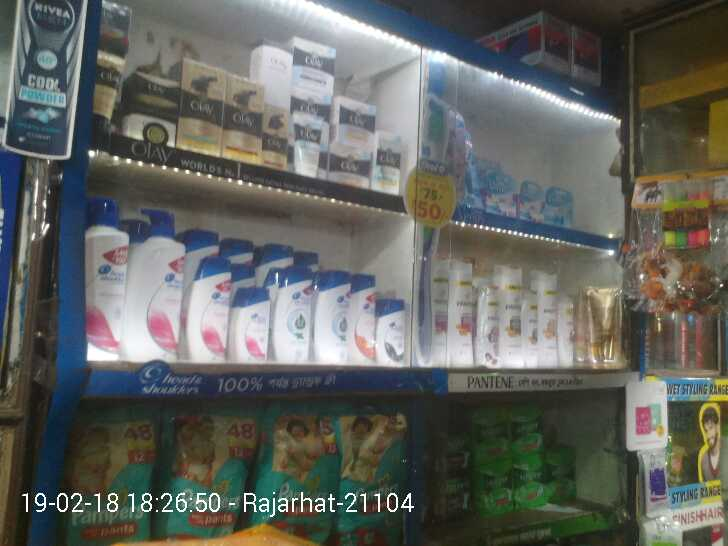venus: (457, 113, 484, 208), (489, 172, 515, 214), (522, 181, 545, 221), (545, 189, 573, 221)
